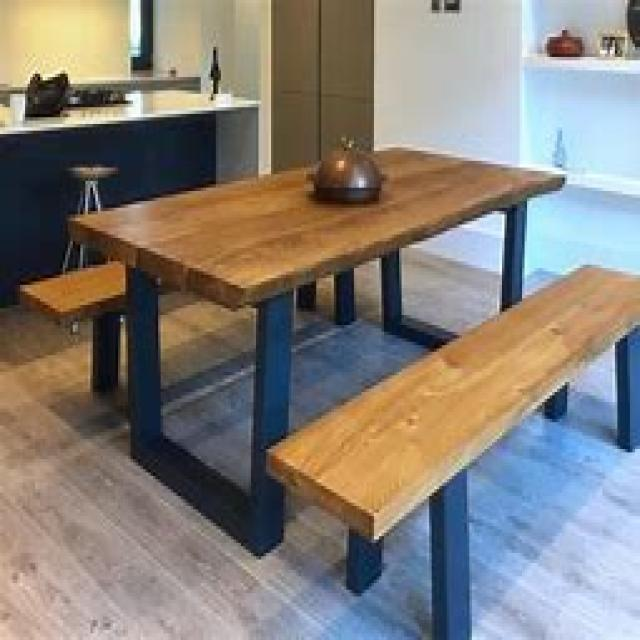table: (63, 138, 567, 556)
